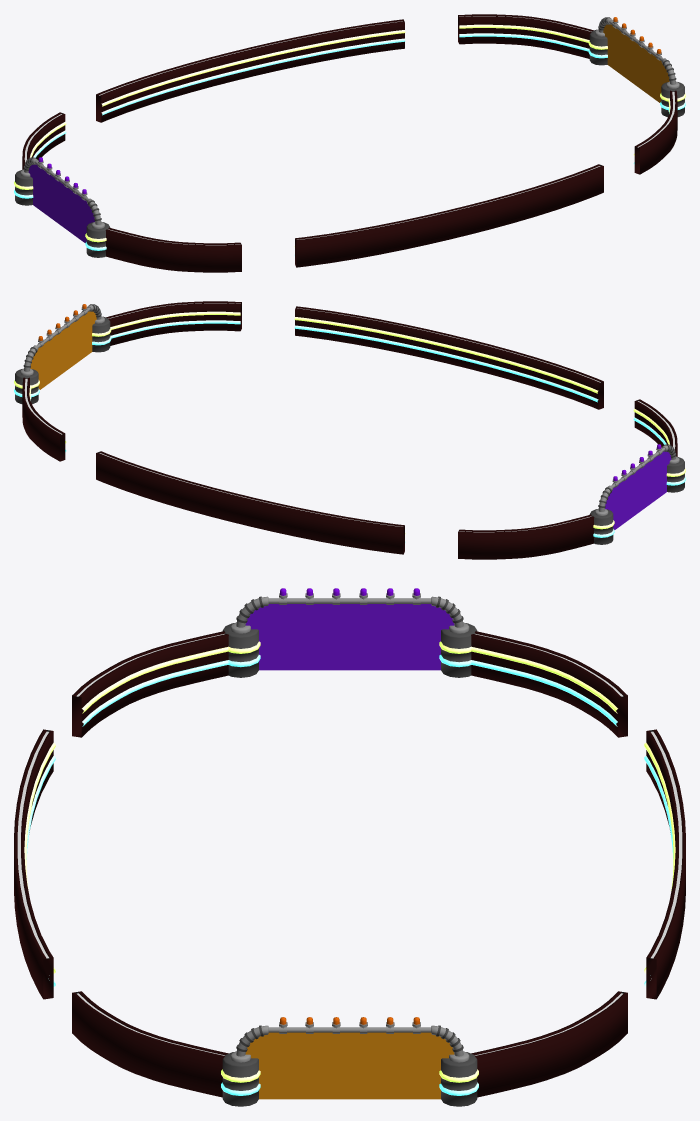
Rendered from mesh_RTA_Hockey_WallAndGoals.fbx.
The picture shows the model from 3 angles, top to bottom: view 1: azimuth 30°, elevation 25°; view 2: azimuth 150°, elevation 25°; view 3: azimuth 270°, elevation 25°; orthographic projection. The views are drawn at different scales.
Parts seen in each view (by area): view 1: mesh_RTA_Hockey_Walls, mesh_Rooftop_Hockey_Goal.001, mesh_Rooftop_Hockey_Goal; view 2: mesh_RTA_Hockey_Walls, mesh_Rooftop_Hockey_Goal.001, mesh_Rooftop_Hockey_Goal; view 3: mesh_RTA_Hockey_Walls, mesh_Rooftop_Hockey_Goal.001, mesh_Rooftop_Hockey_Goal.
Boxes of the visible parts, <box> form: mesh_RTA_Hockey_Walls: <box>22,14,677,272</box>; mesh_Rooftop_Hockey_Goal.001: <box>28,24,669,242</box>; mesh_Rooftop_Hockey_Goal: <box>14,17,685,257</box>; mesh_RTA_Hockey_Walls: <box>22,301,677,559</box>; mesh_Rooftop_Hockey_Goal.001: <box>30,311,671,529</box>; mesh_Rooftop_Hockey_Goal: <box>14,304,685,544</box>; mesh_RTA_Hockey_Walls: <box>14,631,685,1097</box>; mesh_Rooftop_Hockey_Goal.001: <box>245,604,454,1099</box>; mesh_Rooftop_Hockey_Goal: <box>221,588,478,1106</box>.
Bounding box in the file's own units: 58.19 × 4.99 × 37.08.
